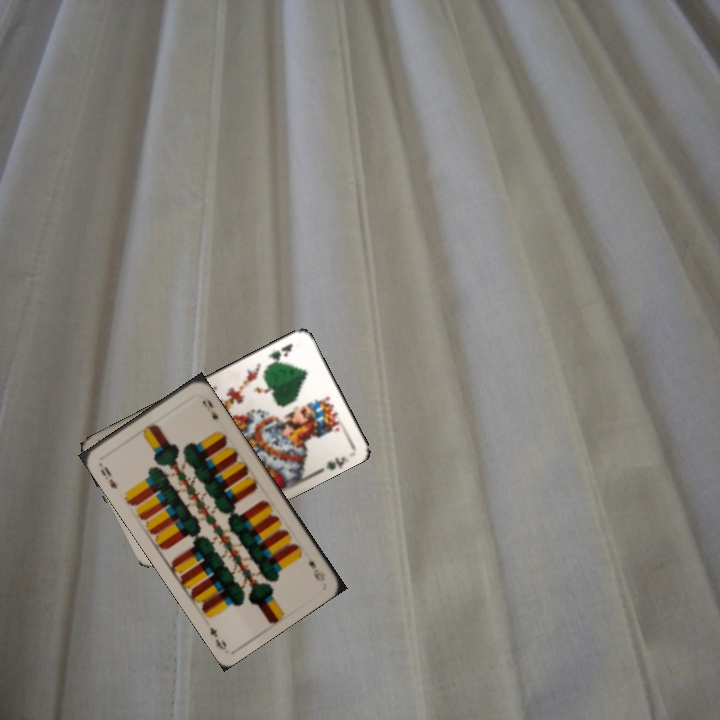E9: (95, 459, 120, 491), (304, 557, 328, 584)
GK: (264, 340, 296, 369)
